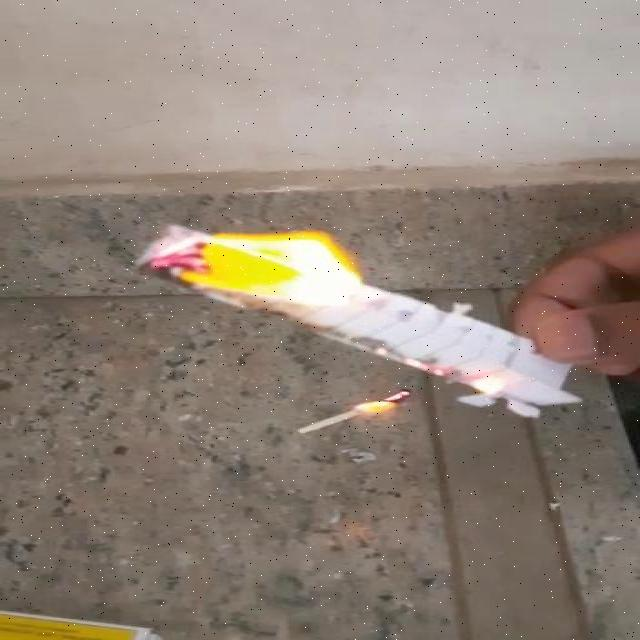fire: (162, 217, 358, 321), (352, 395, 410, 427)
